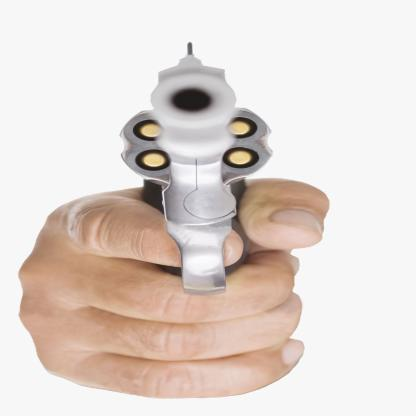handgun: (123, 40, 272, 291)
